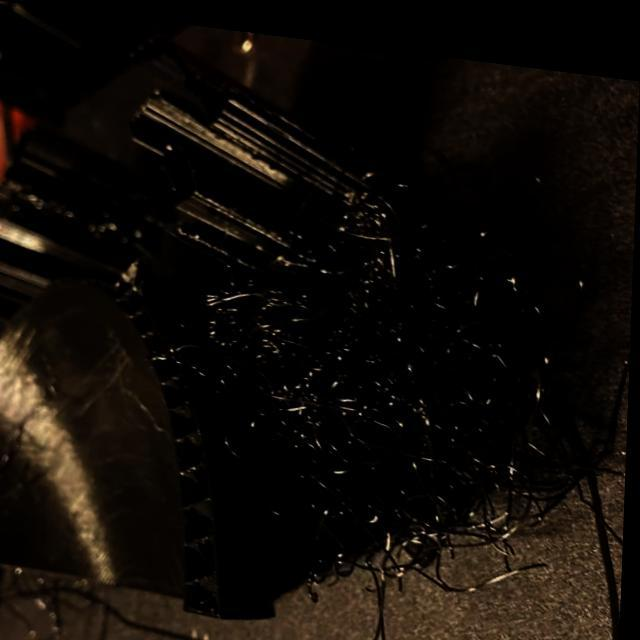spaghetti: (214, 254, 380, 425), (429, 255, 540, 463), (299, 445, 464, 573), (330, 175, 444, 292)
